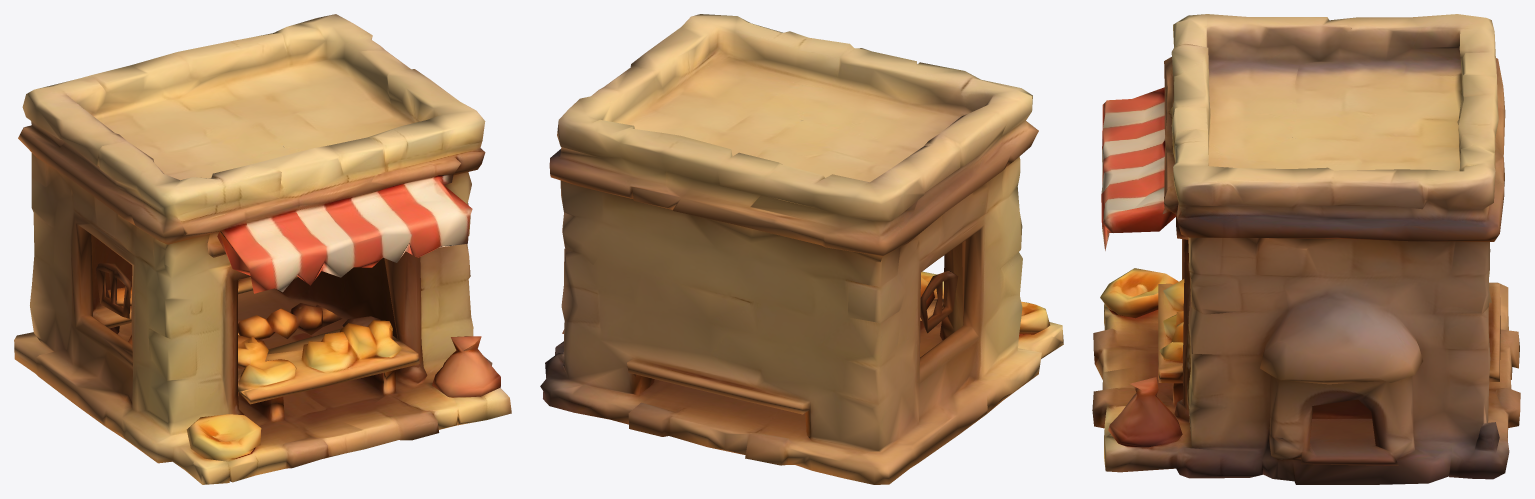
File: bakery.glb
3 views of the same model, side by side, from view 1: azimuth 30°, elevation 25°; view 2: azimuth 150°, elevation 25°; view 3: azimuth 270°, elevation 25° (orthographic). The views are drawn at different scales.
Visible parts, largest first — view 1: tripo_node_52d437ff-ae1d-4a7f-931c-53c7cb1a8005; view 2: tripo_node_52d437ff-ae1d-4a7f-931c-53c7cb1a8005; view 3: tripo_node_52d437ff-ae1d-4a7f-931c-53c7cb1a8005.
Part boxes in pixels (<box>): tripo_node_52d437ff-ae1d-4a7f-931c-53c7cb1a8005: <box>14,14,511,484</box>; tripo_node_52d437ff-ae1d-4a7f-931c-53c7cb1a8005: <box>540,14,1063,484</box>; tripo_node_52d437ff-ae1d-4a7f-931c-53c7cb1a8005: <box>1092,14,1520,484</box>.
Bounding box in the file's own units: 1 × 0.7124 × 0.9379.
1 material, 1 textured.
